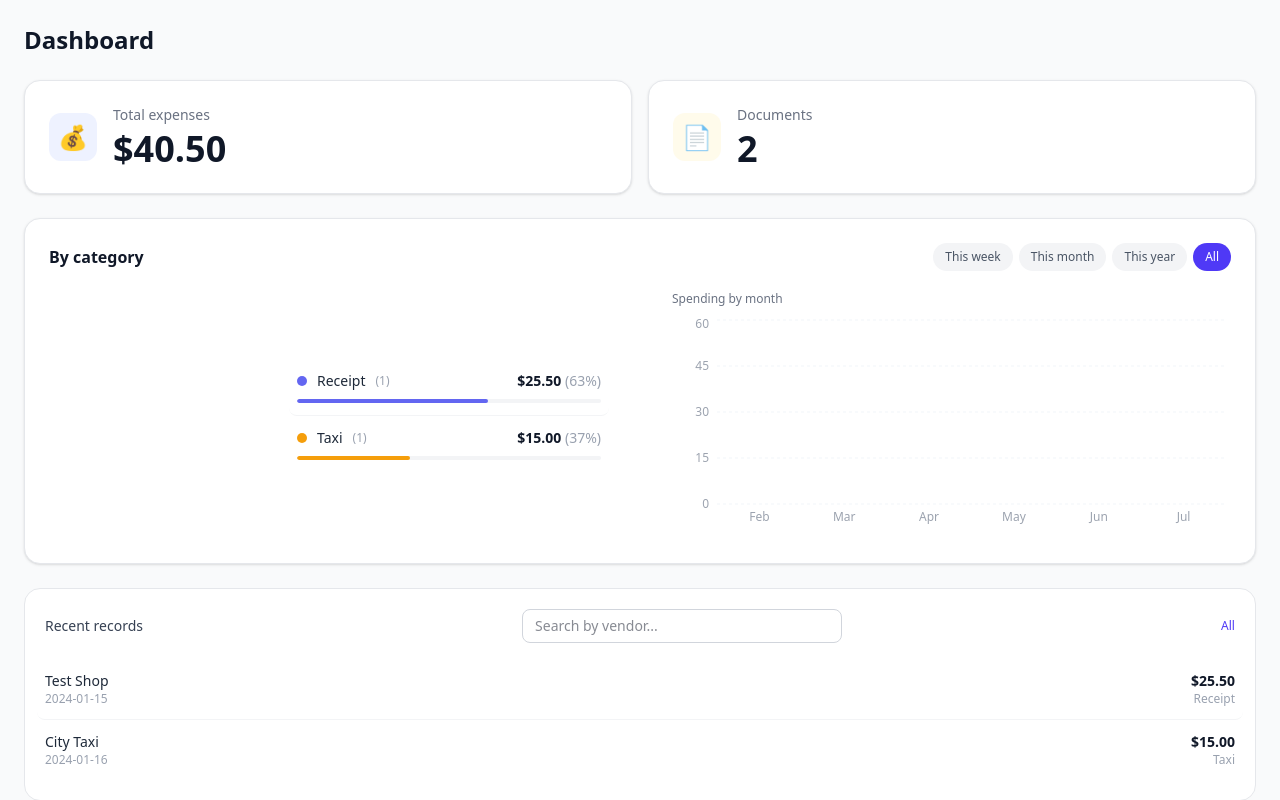
Test: DashboardPage › filters recent expenses by vendor search
Expected: the text "Test Shop" is shown, top-left (45, 671), bottom-right (108, 691)
Type "city" into the field with placeholder "Search by vendor..." at (682, 626), box top-left (522, 609), bottom-right (842, 643)
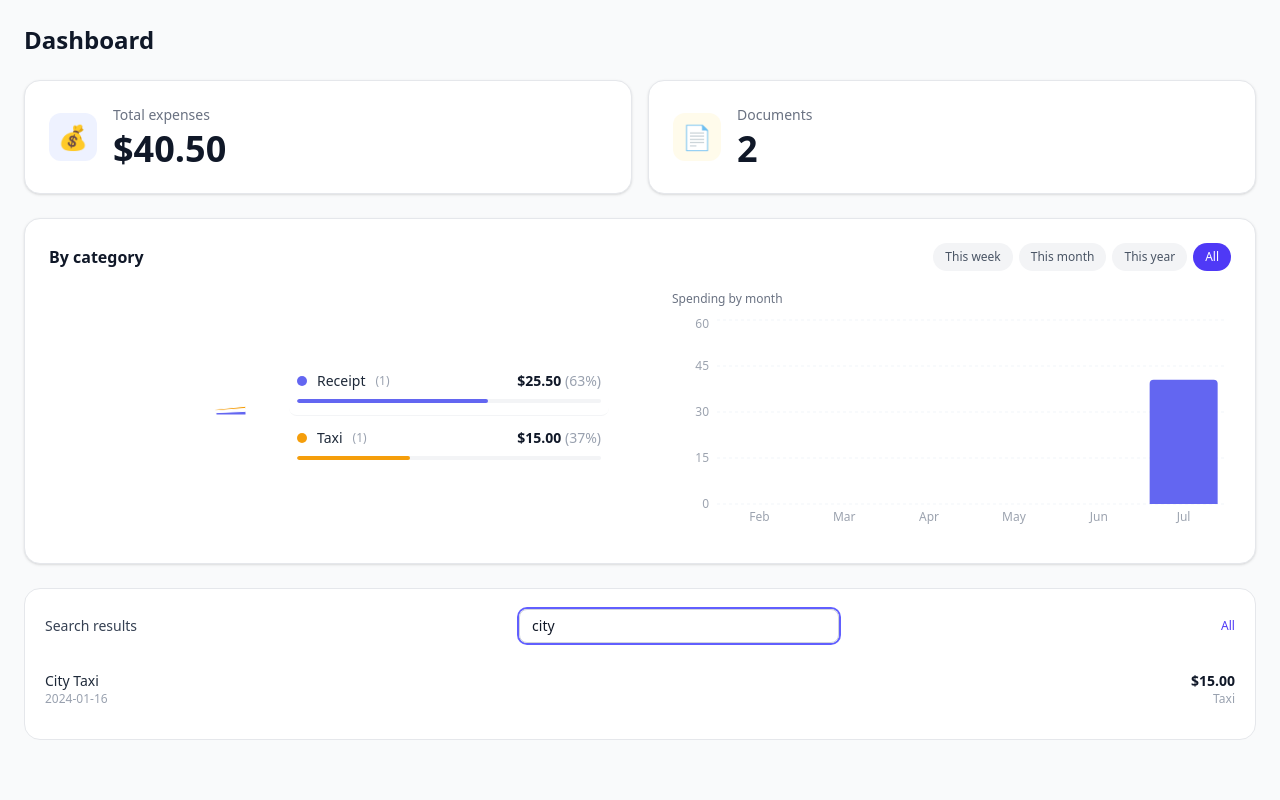
Expected: the text "City Taxi" is shown, top-left (45, 671), bottom-right (108, 691)
Result: the link "Test Shop" is gone
